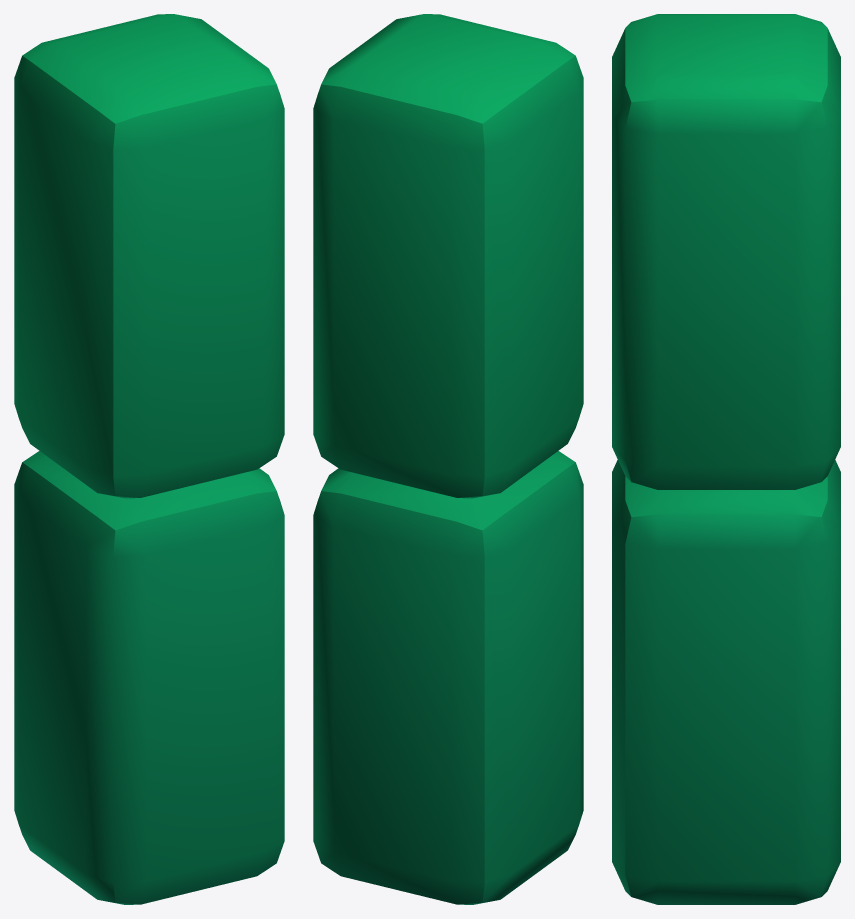
The model's file is barrier_1x1x4_green.glb.
3 renders of one model, left to right at view 1: azimuth 30°, elevation 25°; view 2: azimuth 150°, elevation 25°; view 3: azimuth 270°, elevation 25°, orthographic. The views are drawn at different scales.
Visible parts, largest first — view 1: barrier_1x1x4_green; view 2: barrier_1x1x4_green; view 3: barrier_1x1x4_green.
Boxes of the visible parts, box(x1,y1,x2,y2) form: barrier_1x1x4_green: box(14, 14, 284, 904); barrier_1x1x4_green: box(313, 14, 583, 904); barrier_1x1x4_green: box(612, 14, 840, 904).
Size of the model in its own units: 1 by 4 by 1.
1 material, 1 textured.
